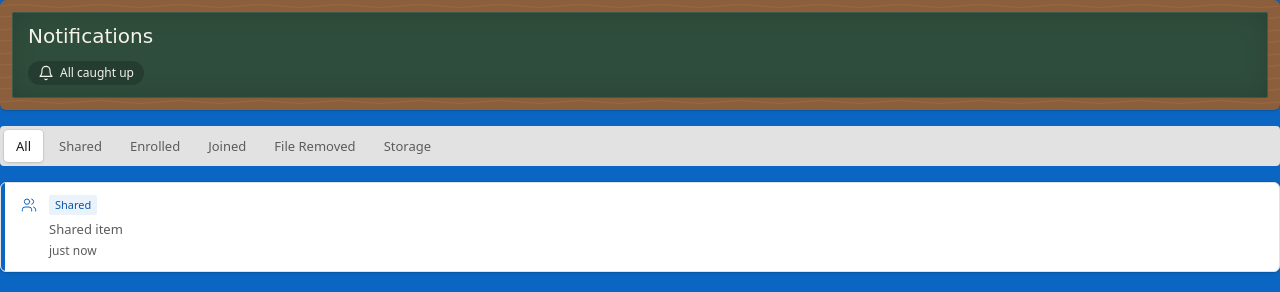
Test: NotificationsPage › a filter with no matches shows the empty state with its own label
The width and height of the screenshot is (1280, 292).
Expected: the text "Shared item" is shown, [49,220,123,238]
Click the button "Storage" at (407,146), box [372,130,443,162]
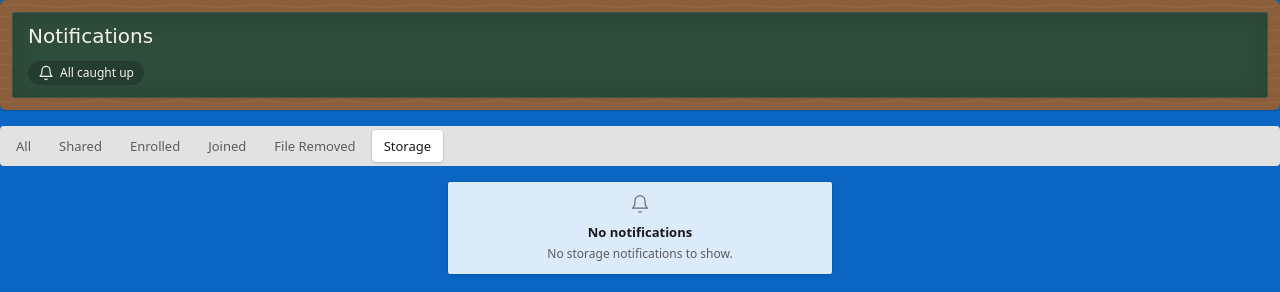
Expected: the text "No storage notifications to show." is shown, [547,246,733,262]
